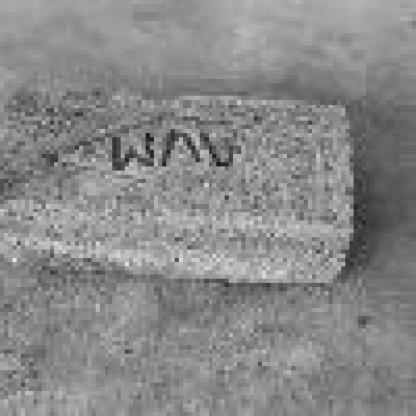brick: (2, 90, 357, 291)
